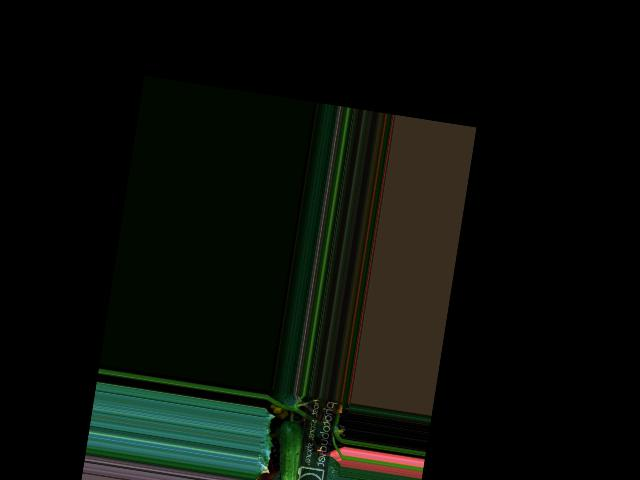cucumber: (271, 420, 309, 480)
